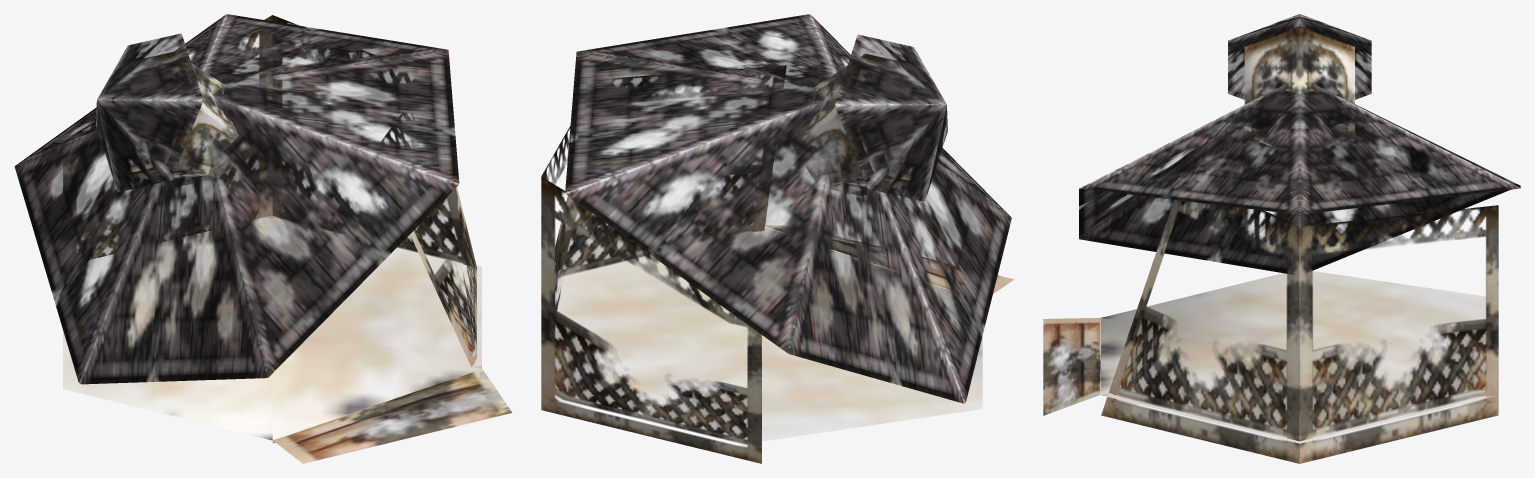
Rendered from Environment - Prop - Park Pavilion - Damaged - PMPvilion_d.glb.
3 renders of one model, left to right at view 1: azimuth 30°, elevation 25°; view 2: azimuth 150°, elevation 25°; view 3: azimuth 270°, elevation 25°, orthographic. The views are drawn at different scales.
Visible parts, largest first — view 1: PMPVILION_D; view 2: PMPVILION_D; view 3: PMPVILION_D.
Boxes of the visible parts, x1,y1,x2,y2 form: PMPVILION_D: (14, 14, 512, 463); PMPVILION_D: (541, 14, 1014, 463); PMPVILION_D: (1043, 14, 1520, 463).
Size of the model in its own units: 28.09 by 21.14 by 29.21.
1 material, 1 textured.
